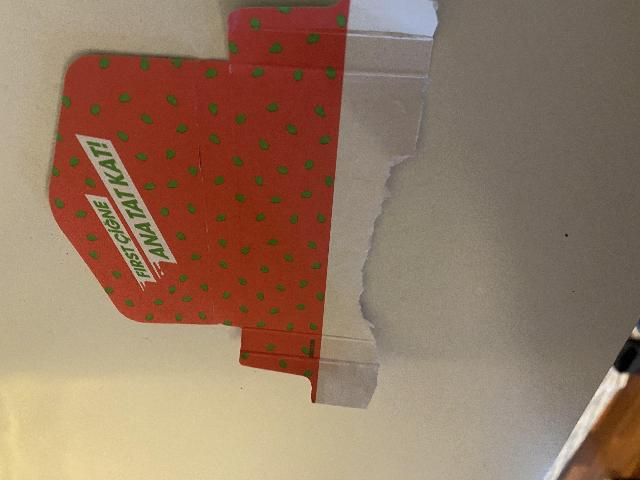Kagit: (41, 0, 468, 416)
